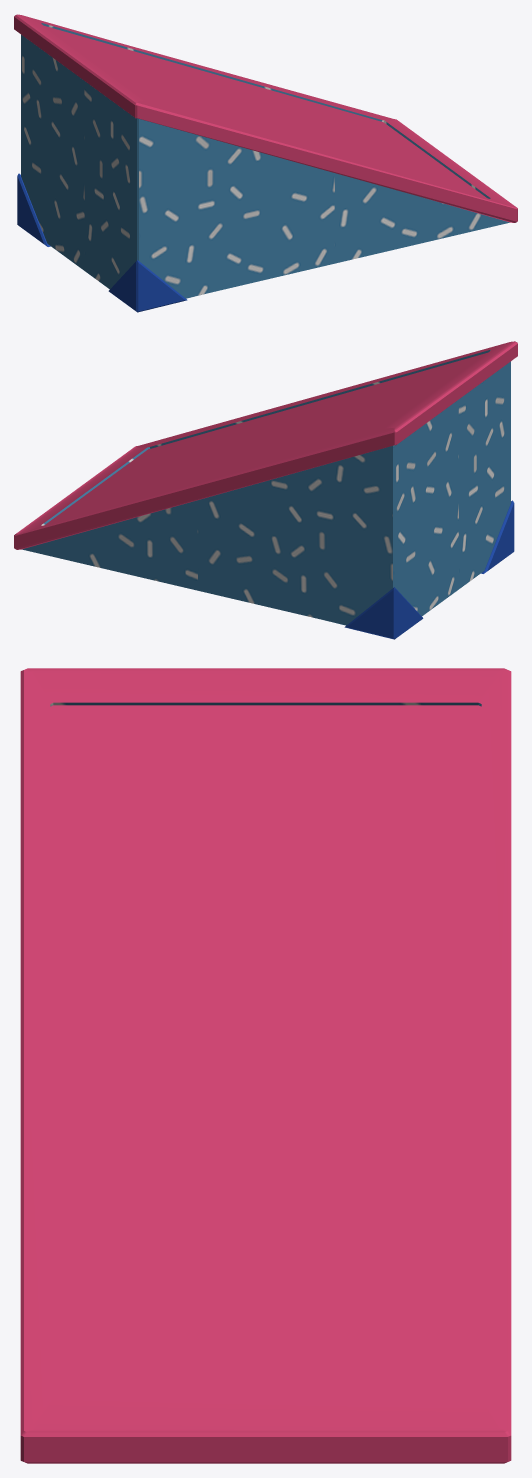
File: PLF0110015.fbx
3 renders of one model, top to bottom at view 1: azimuth 30°, elevation 25°; view 2: azimuth 150°, elevation 25°; view 3: azimuth 270°, elevation 25°, orthographic. The views are drawn at different scales.
Parts seen in each view (by area): view 1: smPLF0110015; view 2: smPLF0110015; view 3: smPLF0110015.
Boxes of the visible parts, x1,y1,x2,y2 form: smPLF0110015: [14, 14, 517, 312]; smPLF0110015: [14, 341, 517, 639]; smPLF0110015: [20, 668, 511, 1463].
Bounding box in the file's own units: 287 × 152 × 159.
Materials: 1 (1 with a texture image).
